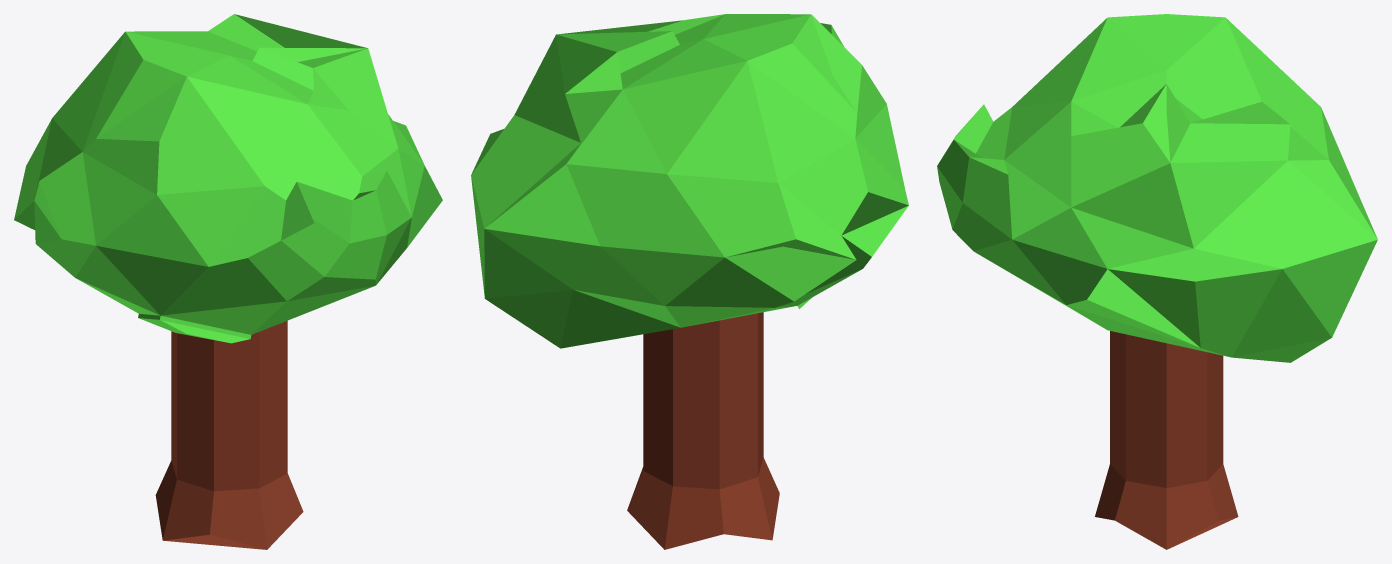
Rendered from LowPolyTree.fbx.
3 renders of one model, left to right at view 1: azimuth 30°, elevation 25°; view 2: azimuth 150°, elevation 25°; view 3: azimuth 270°, elevation 25°, orthographic. The views are drawn at different scales.
Visible parts, largest first — view 1: Icosphere, Cube; view 2: Icosphere, Cube; view 3: Icosphere, Cube.
Boxes of the visible parts, x1,y1,x2,y2 form: Icosphere: (14, 14, 442, 343); Cube: (155, 320, 303, 549); Icosphere: (471, 14, 908, 348); Cube: (627, 312, 779, 549); Icosphere: (937, 14, 1377, 362); Cube: (1095, 331, 1238, 549).
Size of the model in its own units: 870 by 1083 by 926.
